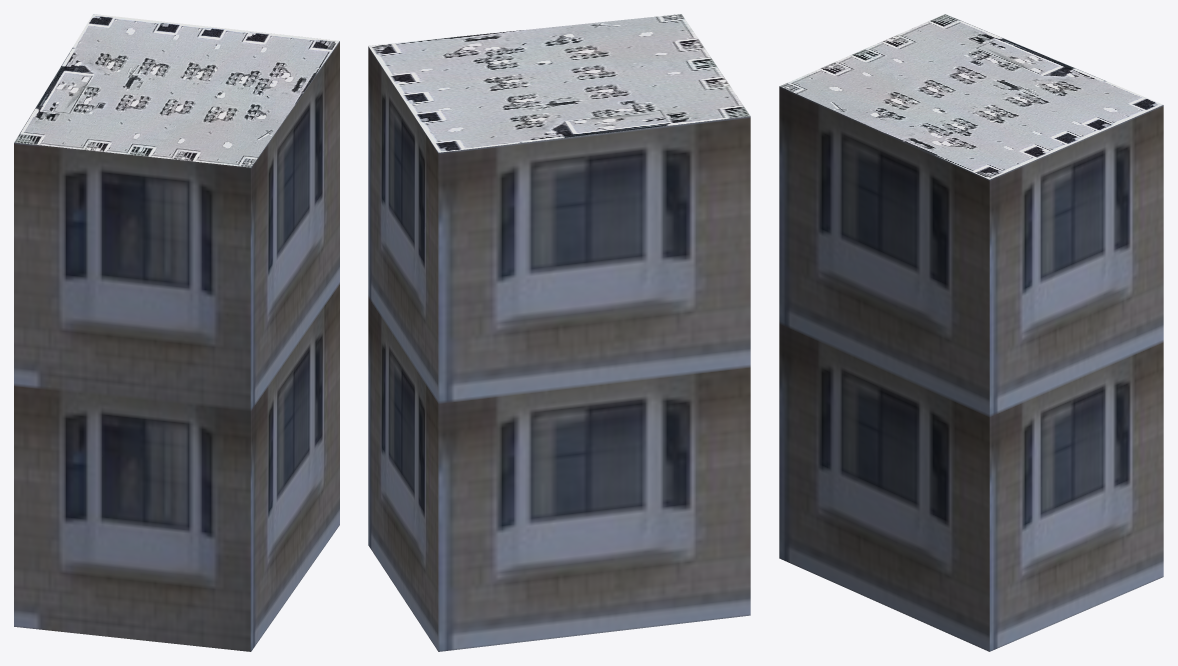
File: ResTex__853.fbx
3 views of the same model, side by side, from view 1: azimuth 30°, elevation 25°; view 2: azimuth 150°, elevation 25°; view 3: azimuth 270°, elevation 25° (orthographic). The views are drawn at different scales.
Visible parts, largest first — view 1: CityEngineMaterial_3_m, CityEngineMaterial_8_m; view 2: CityEngineMaterial_3_m, CityEngineMaterial_8_m; view 3: CityEngineMaterial_3_m, CityEngineMaterial_8_m.
Part boxes in pixels (x1=…): CityEngineMaterial_3_m: x1=14, y1=41, x2=339, y2=651; CityEngineMaterial_8_m: x1=14, y1=14, x2=339, y2=167; CityEngineMaterial_3_m: x1=368, y1=46, x2=750, y2=651; CityEngineMaterial_8_m: x1=368, y1=14, x2=750, y2=152; CityEngineMaterial_3_m: x1=779, y1=86, x2=1163, y2=651; CityEngineMaterial_8_m: x1=780, y1=14, x2=1162, y2=179.
Bounding box in the file's own units: 4.52 × 6 × 4.42.
Materials: 2 (2 with a texture image).
